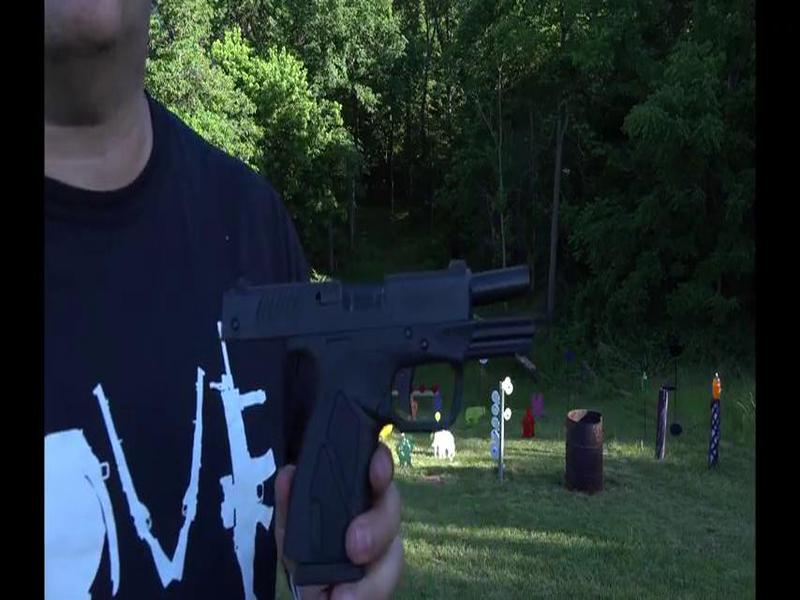Pistola: (217, 258, 544, 584)
